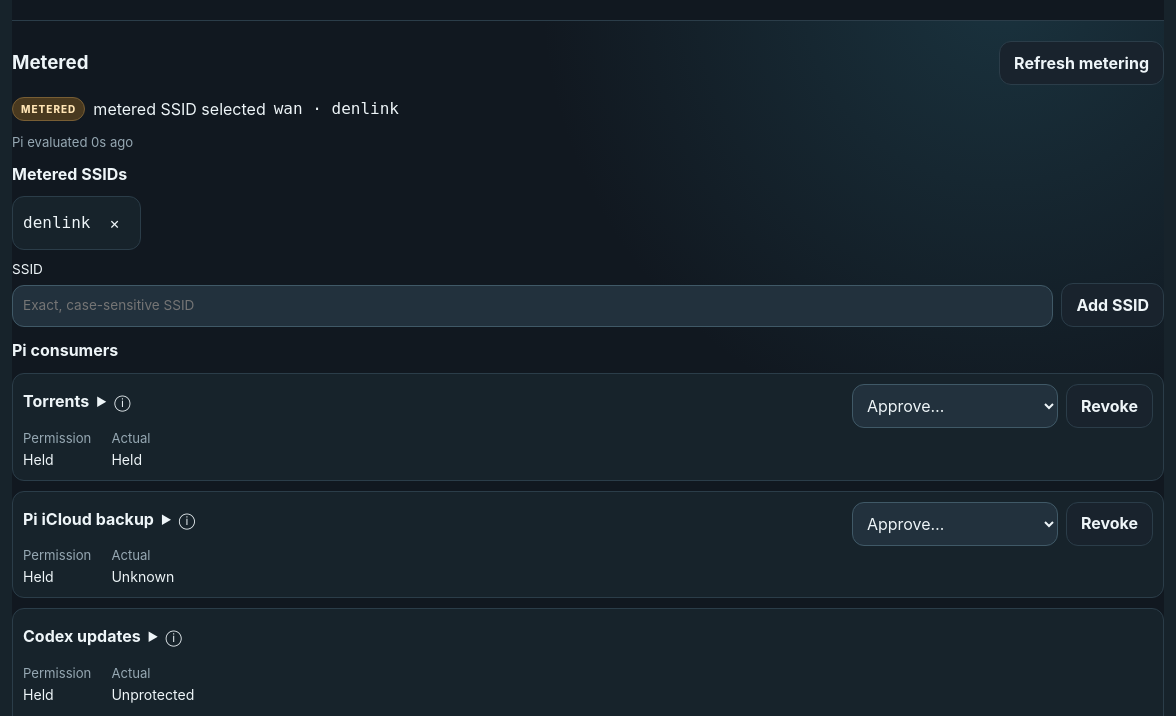
Test: metered controls › refetches on a 409 without replaying the remove
Expected: the button "Add SSID" is enabled, [1062,283,1164,327]
Click the button named "Remove SSID denlink". click: (114, 223)
box: [98,207,130,239]
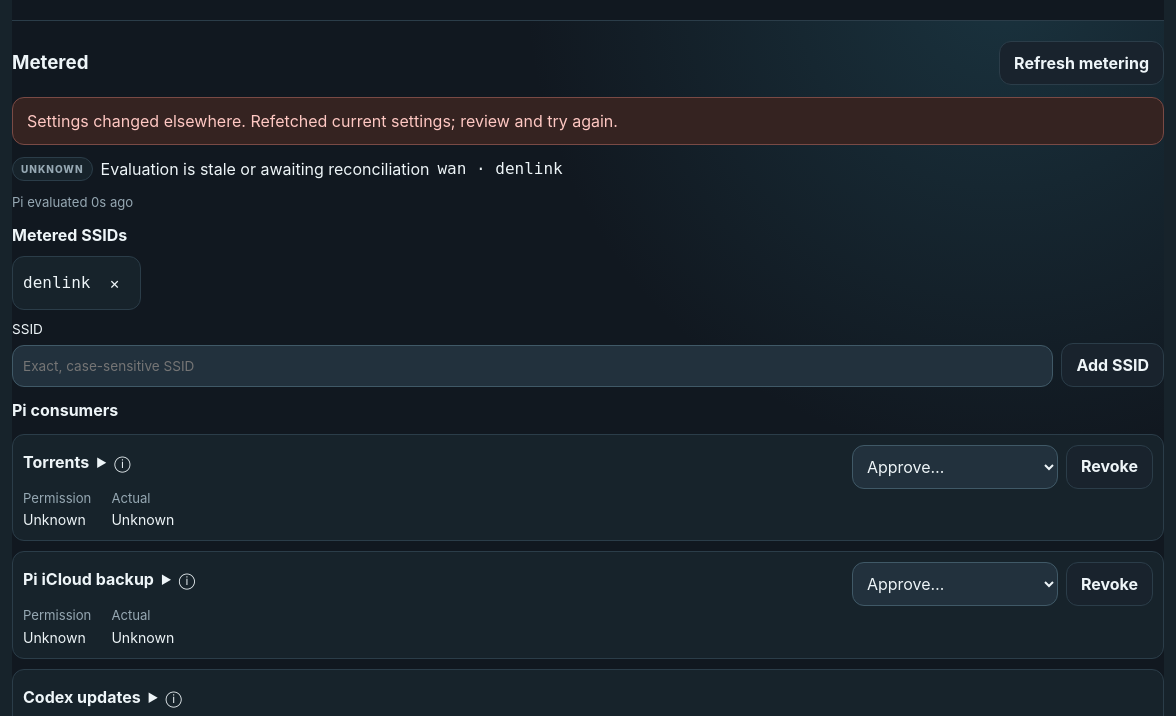
Expected: the text "Settings changed elsewhere. Refetched current settings; review and try again." is shown, [12,97,1164,145]
Click the button named "Remove SSID denlink". click: (114, 283)
box: [98,267,130,299]
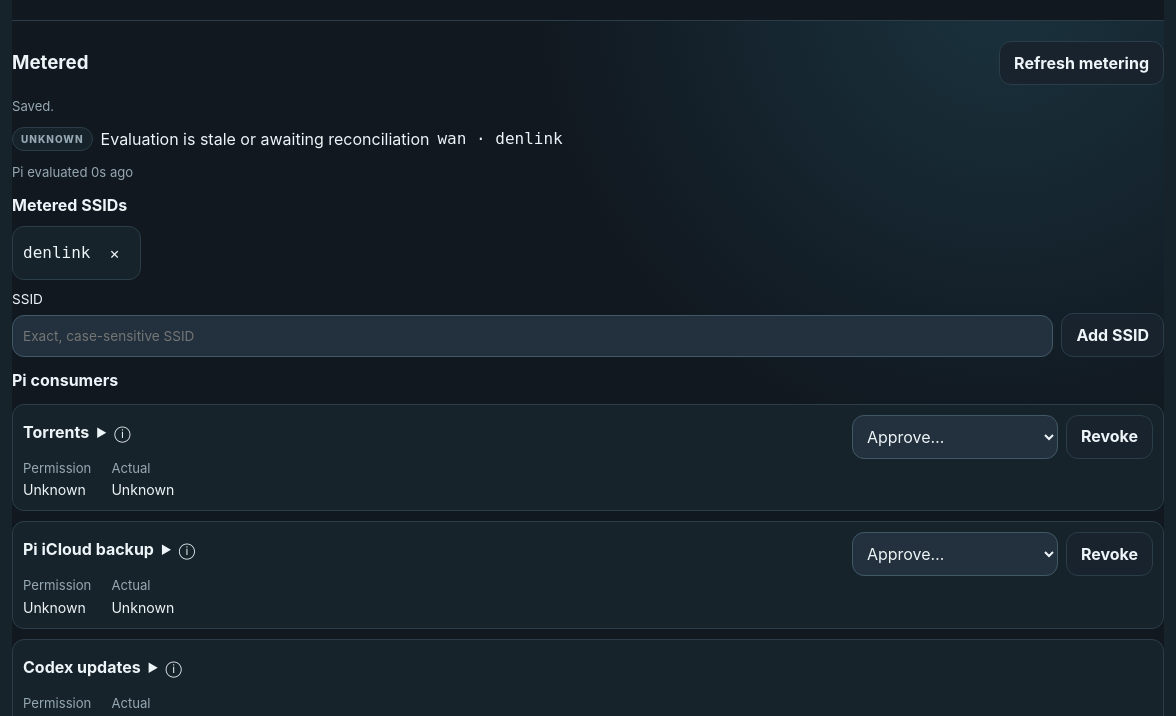
Expected: the button "Add SSID" is enabled, [1062,313,1164,357]
Expected: the text "Saved." is shown, [12,98,54,114]
